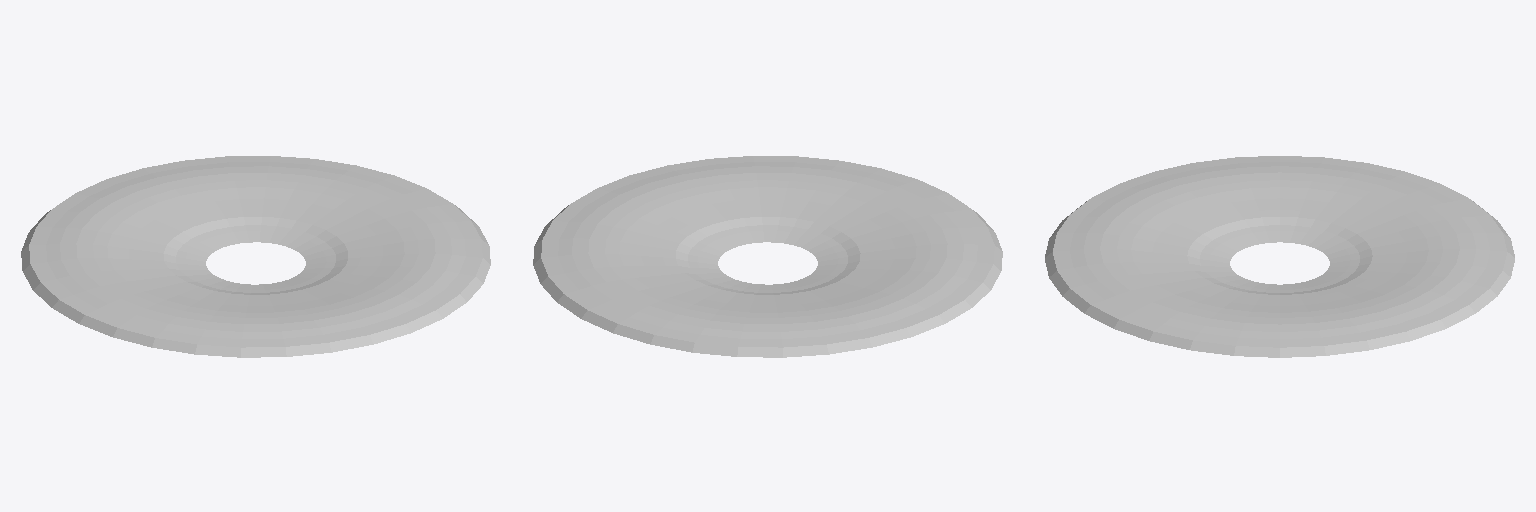
File: meja3-1.obj
The picture shows the model from 3 angles: view 1: azimuth 30°, elevation 25°; view 2: azimuth 150°, elevation 25°; view 3: azimuth 270°, elevation 25°; orthographic projection.
Visible parts, largest first — view 1: Cube.072_Cube.347_Cube.072_Cube.001; view 2: Cube.072_Cube.347_Cube.072_Cube.001; view 3: Cube.072_Cube.347_Cube.072_Cube.001.
Boxes of the visible parts, box(x1,y1,x2,y2) form: Cube.072_Cube.347_Cube.072_Cube.001: box(21, 156, 490, 357); Cube.072_Cube.347_Cube.072_Cube.001: box(533, 156, 1002, 357); Cube.072_Cube.347_Cube.072_Cube.001: box(1045, 156, 1514, 357).
Bounding box in the file's own units: 2.98 × 0.1046 × 2.98.